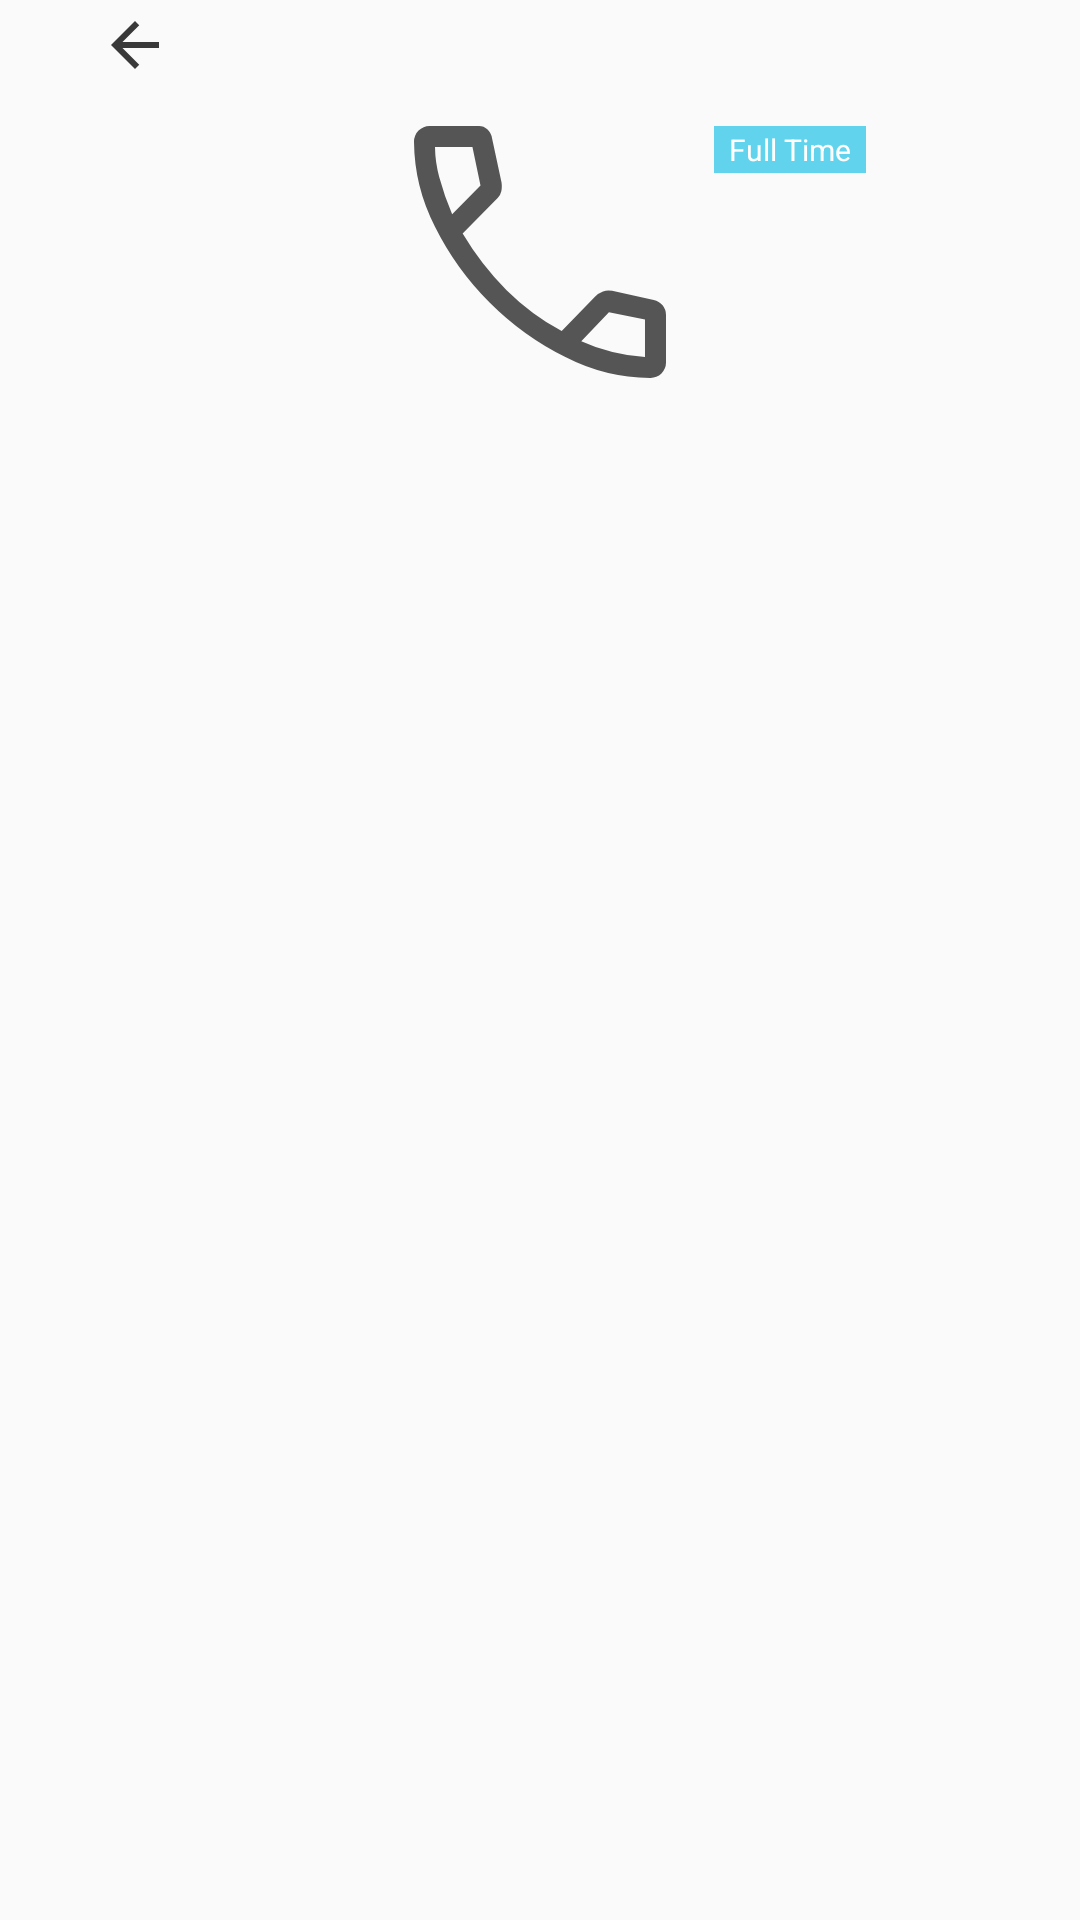

Icons on this 1080×1920 Android screen, each with the point to tap as (x=x, y=y):
arrow back: (x=135, y=45)
call: (x=540, y=252)
